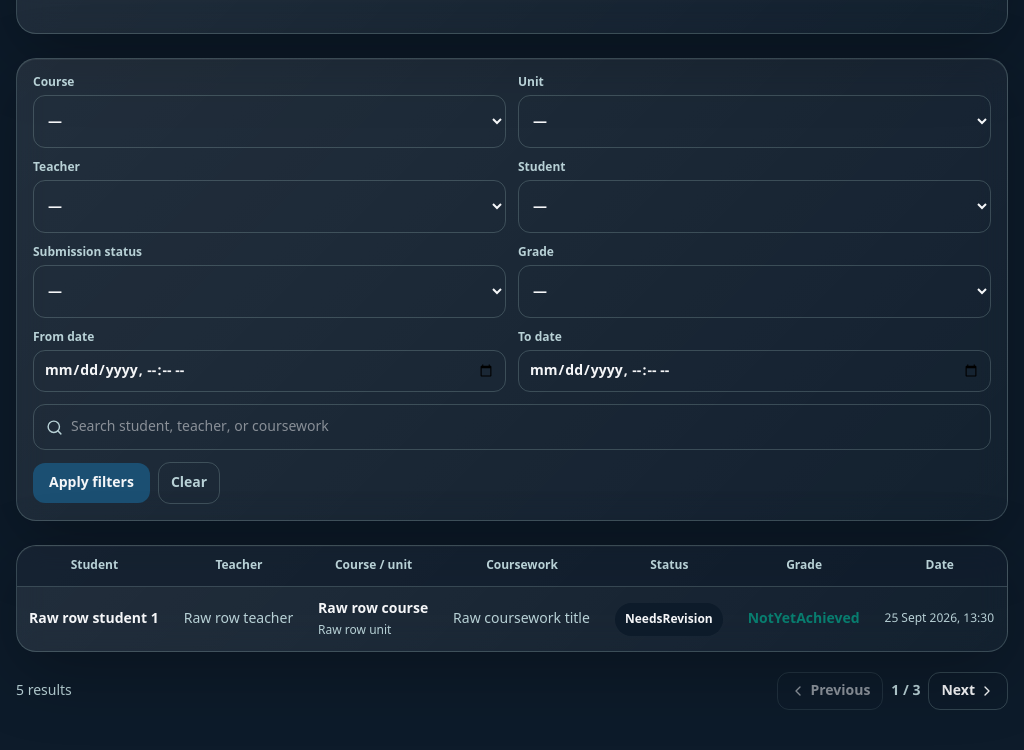
Test case: Gradebook en — MOCKED UI-CONTRACT EVIDENCE › computes page count from SERVER pageSize, keeps bounded Previous/Next transitions and applies back to page one
(page scrolled)
Expected: the button "Previous" is disabled, [777,672,883,710]
Expected: the text "1 / 3" is shown, [891,681,920,701]
Click the button "Next".
click(968, 691)  # box [928,672,1008,710]
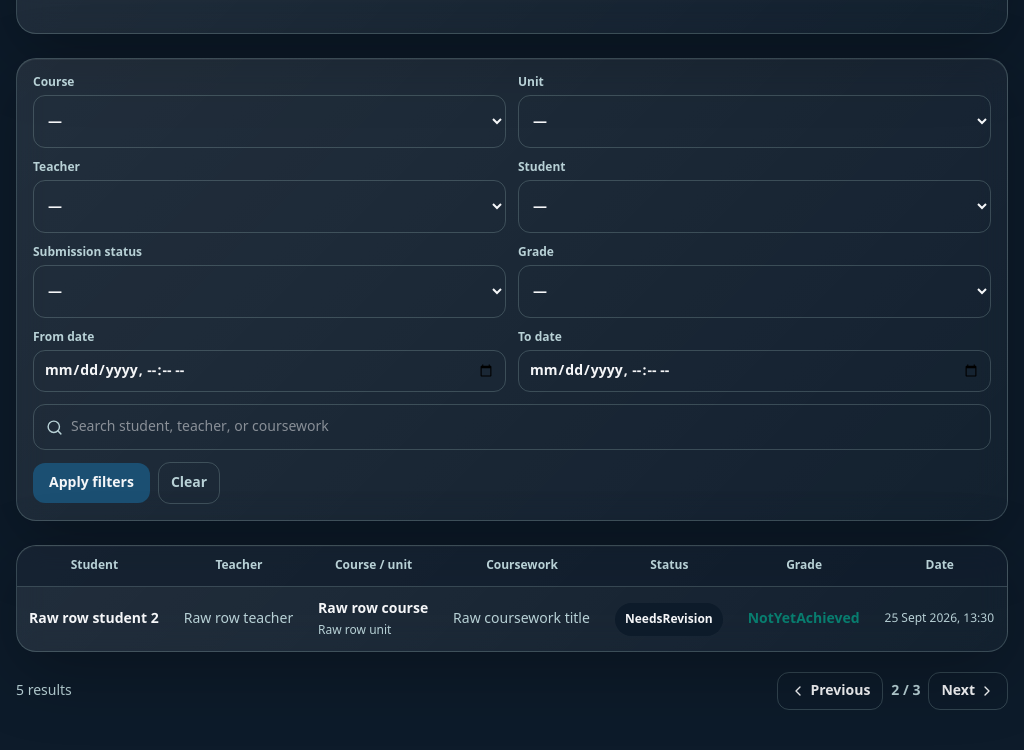
Result: the text "Raw row student 2" is shown at [17,586,172,651]
Result: the button "Previous" is enabled at [777,672,883,710]
Result: the text "2 / 3" is shown at [891,681,920,701]
Click the button "Next".
click(968, 691)  # box [928,672,1008,710]
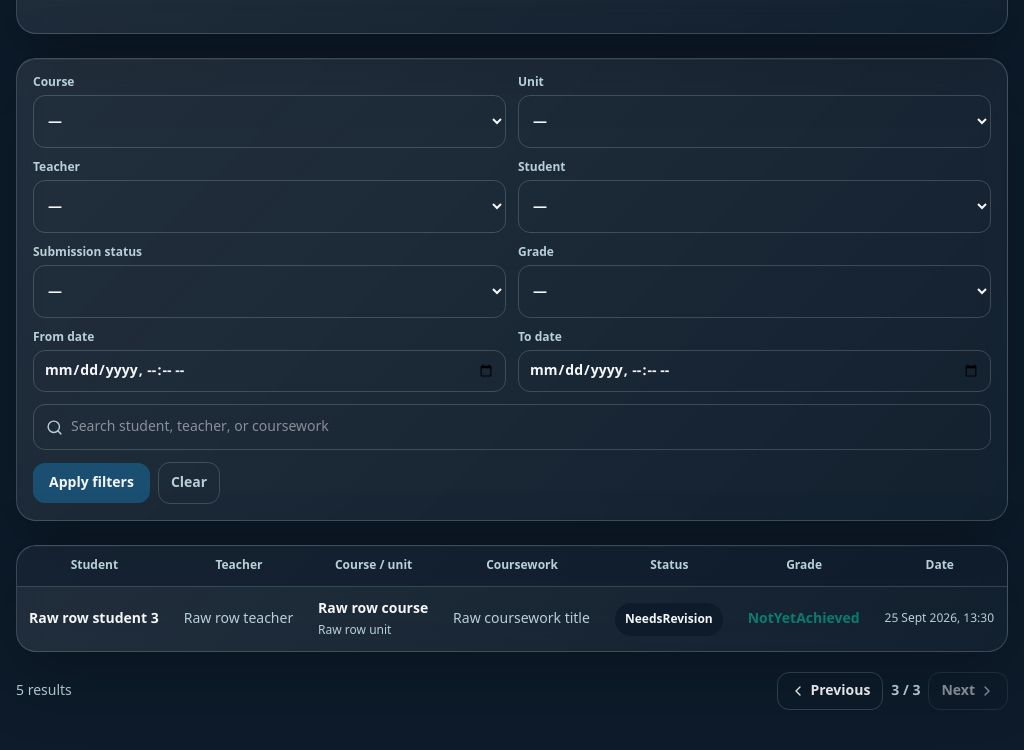
Result: the text "Raw row student 3" is shown at [17,586,172,651]
Result: the button "Next" is disabled at [928,672,1008,710]
Result: the text "3 / 3" is shown at [891,681,920,701]
Click the button "Previous".
click(830, 691)  # box [777,672,883,710]
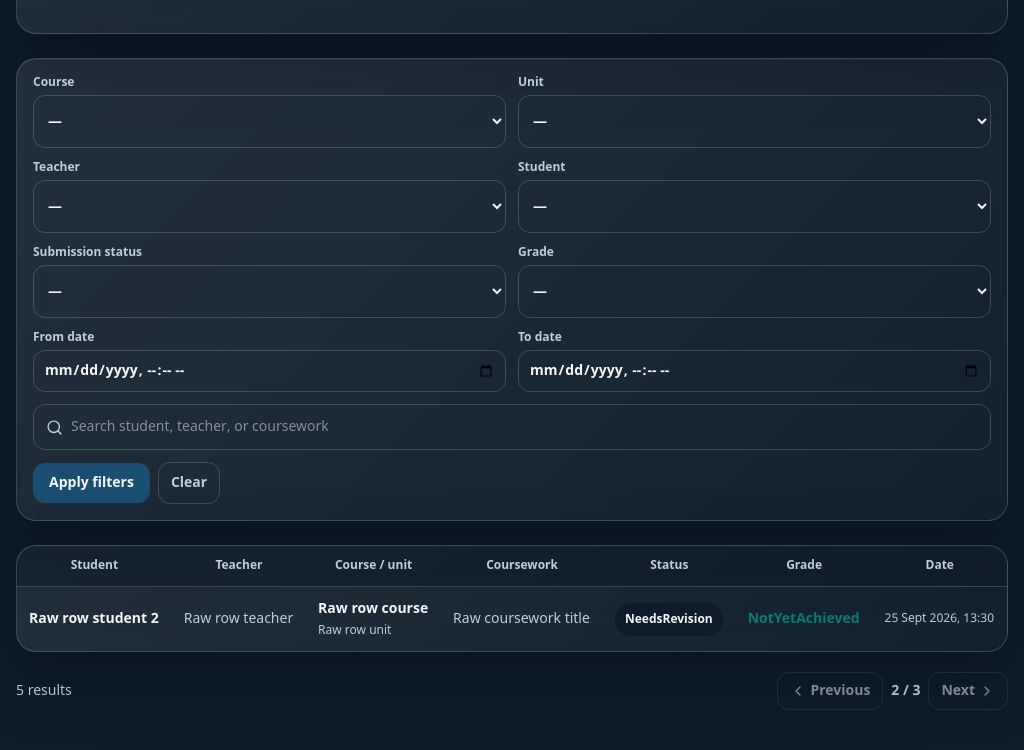
Result: the text "Raw row student 2" is shown at [17,586,172,651]
Select "Pass" in the dropdown labelled "Grade" at (754, 292), box [518,265,991,318]
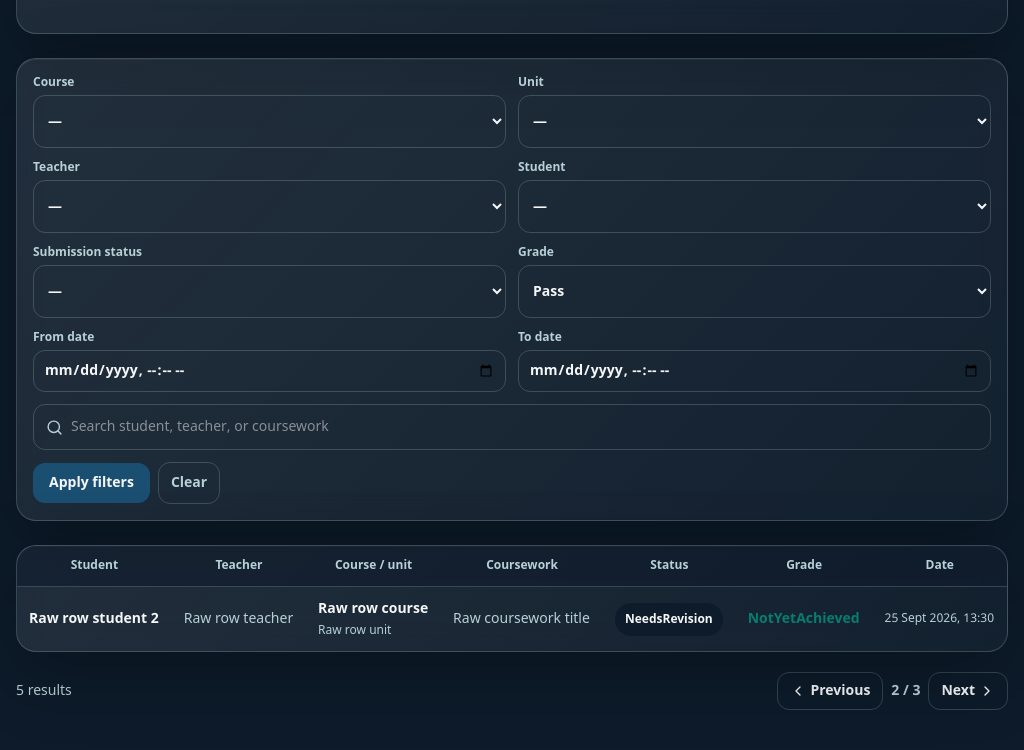
Submit the form named "Apply filters", box [16,58,1008,521]
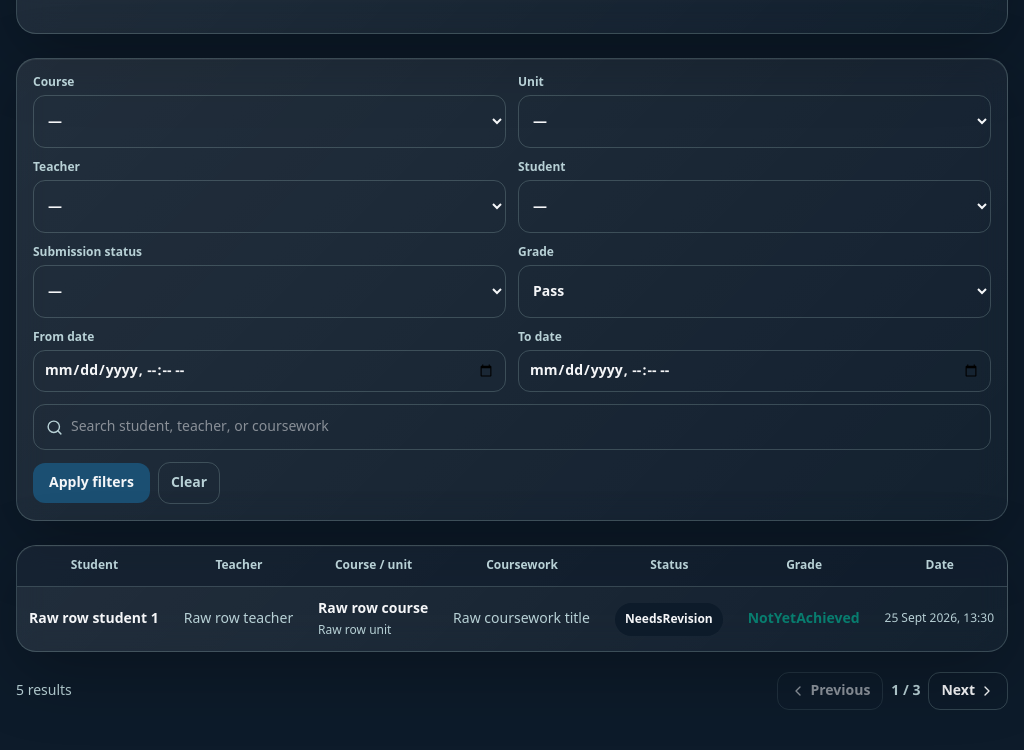
Result: the text "Raw row student 1" is shown at [17,586,172,651]
Result: the button "Previous" is disabled at [777,672,883,710]
